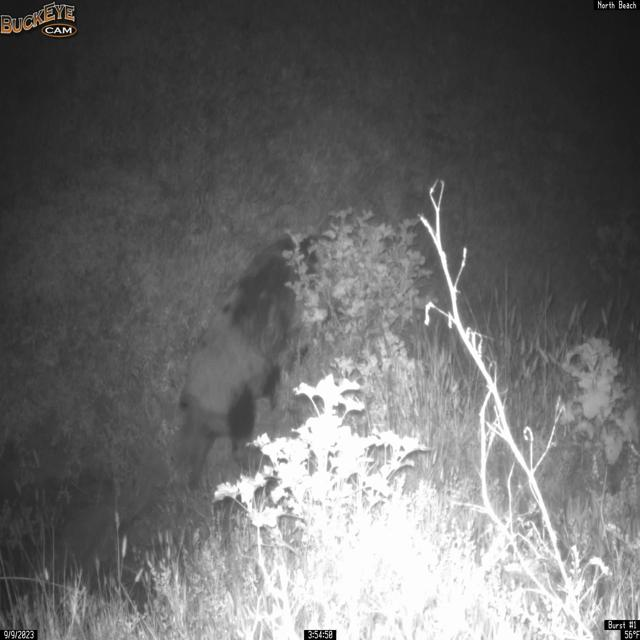pig: (175, 230, 341, 492)
